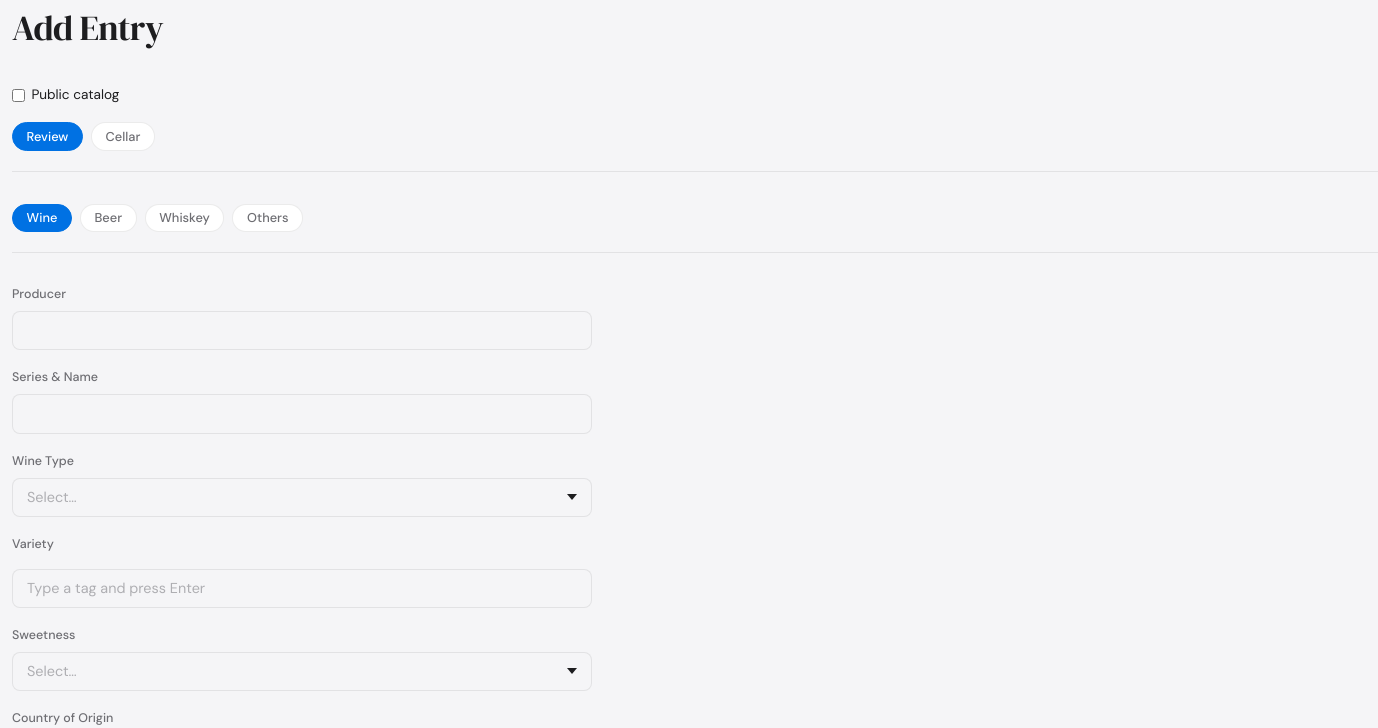
Test case: selecting an option from CustomSelect updates the value and closes menu
Click the button named "wine type" at [52, 497], box [12, 478, 592, 517]
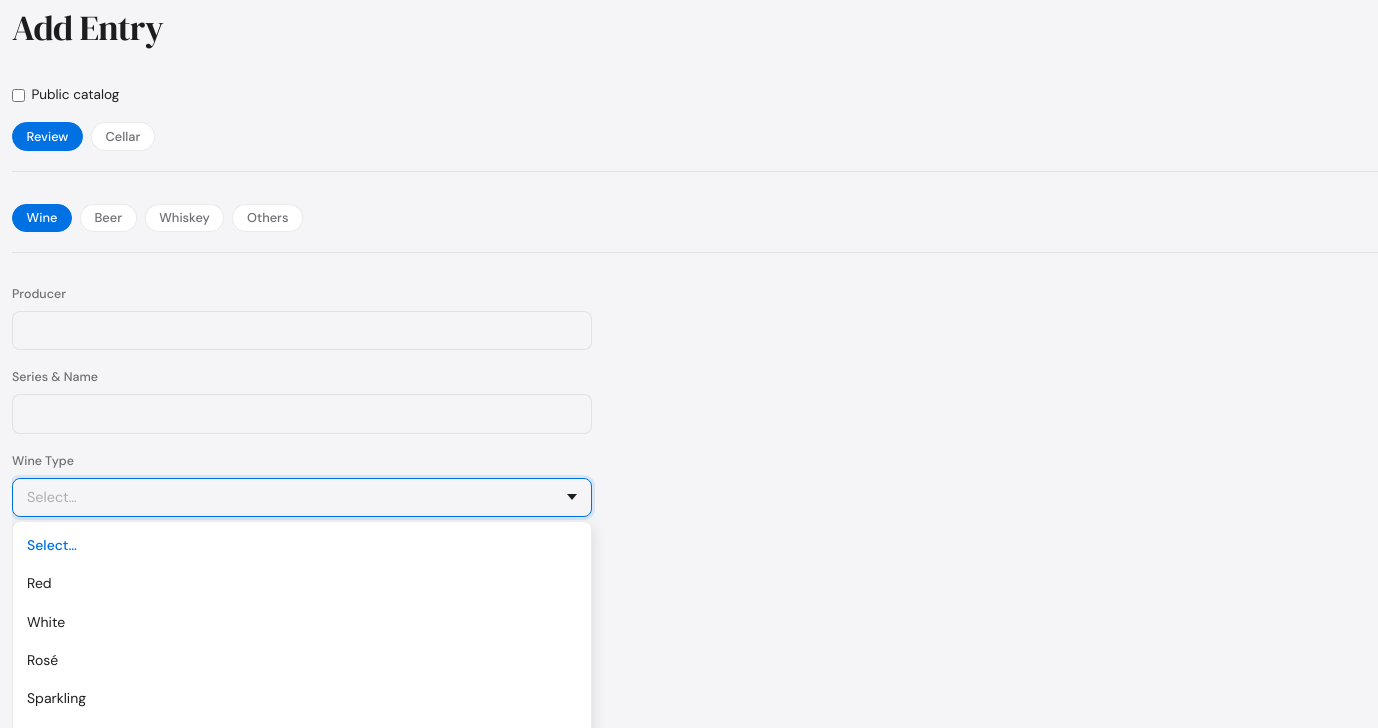
Press the mouse on the list item "Red" at [39, 583], box [27, 574, 52, 592]
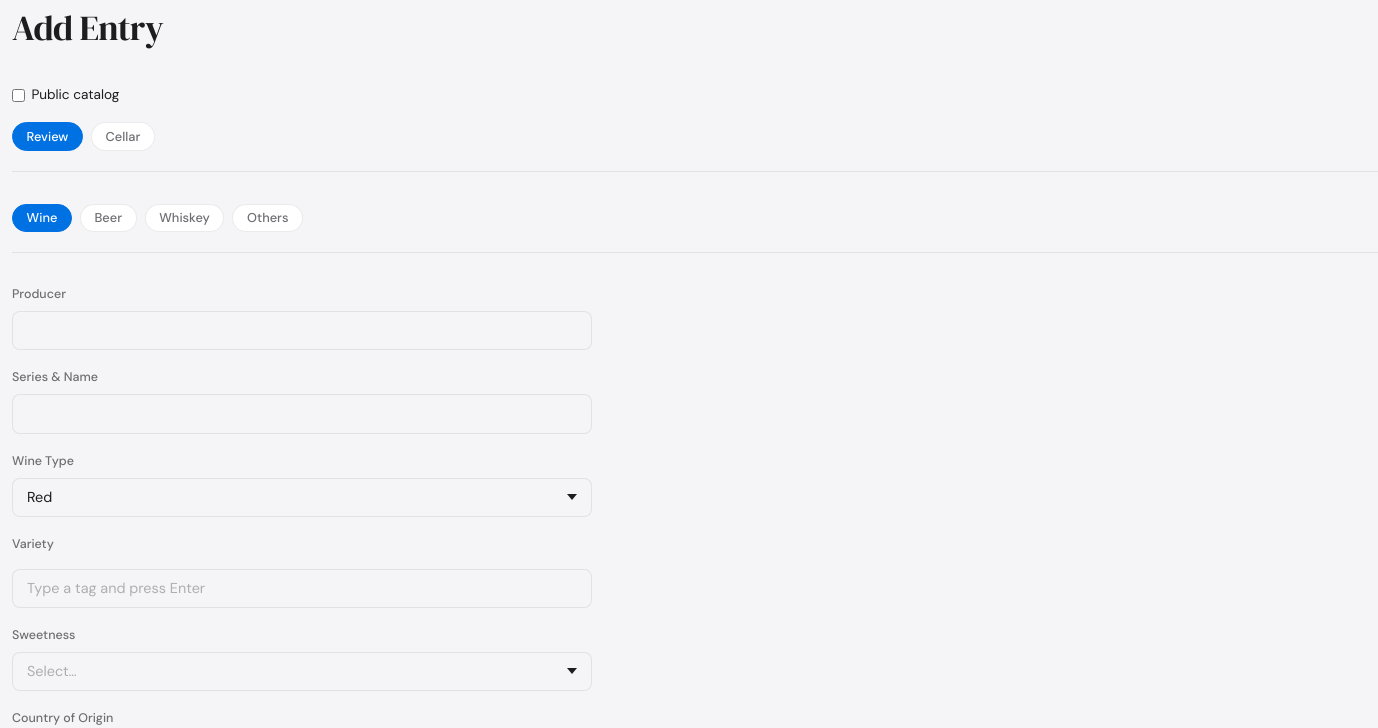
Now the button named "wine type" reads "Red", box [12, 478, 592, 517]
